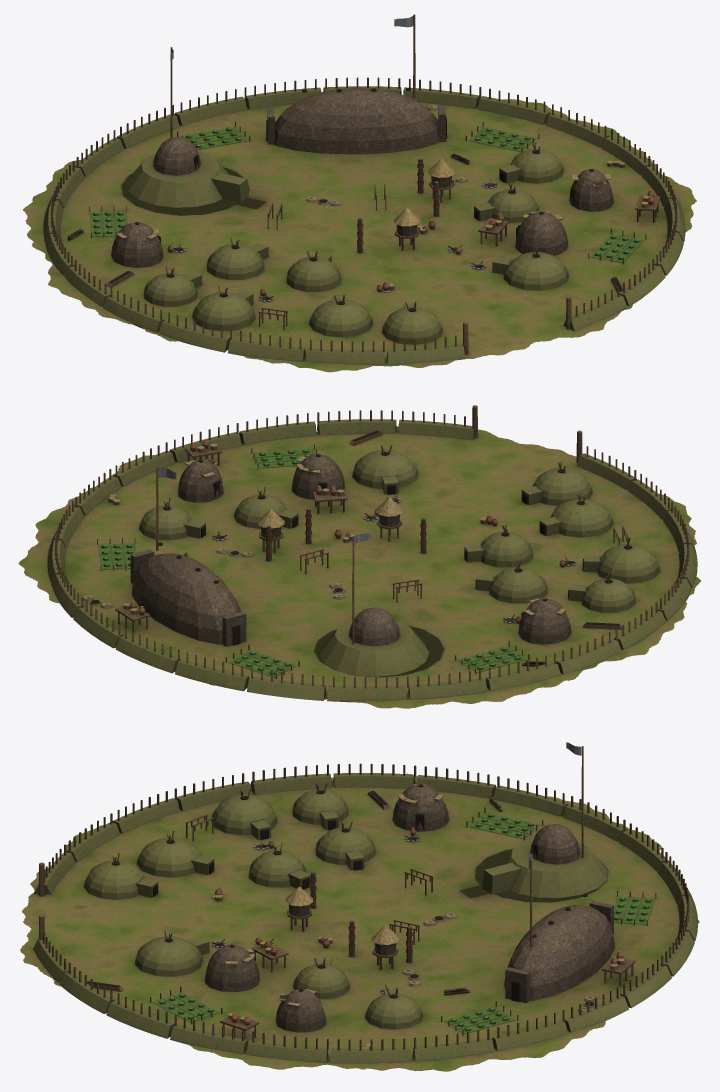
The model's file is stone-town-medium-b-americas.glb.
3 renders of one model, top to bottom at view 1: azimuth 30°, elevation 25°; view 2: azimuth 150°, elevation 25°; view 3: azimuth 270°, elevation 25°, orthographic. The views are drawn at different scales.
Visible parts, largest first — view 1: LOD0; view 2: LOD0; view 3: LOD0.
Boxes of the visible parts, x1,y1,x2,y2 form: LOD0: (23,14,696,372); LOD0: (18,405,701,708); LOD0: (20,742,699,1071).
Size of what is drawn, in the model's own units: 5.99 by 1.23 by 5.73.
3 materials, 3 textured.
